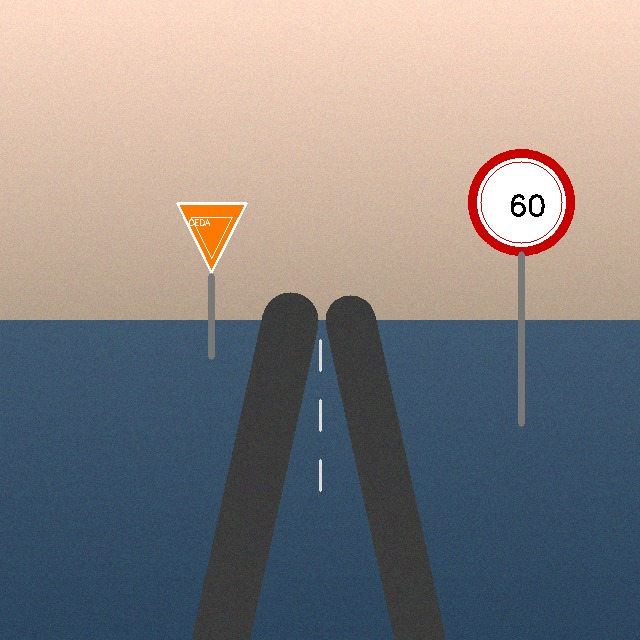ceda_el_paso: (173, 199, 250, 276)
velocidad: (470, 151, 573, 254)
